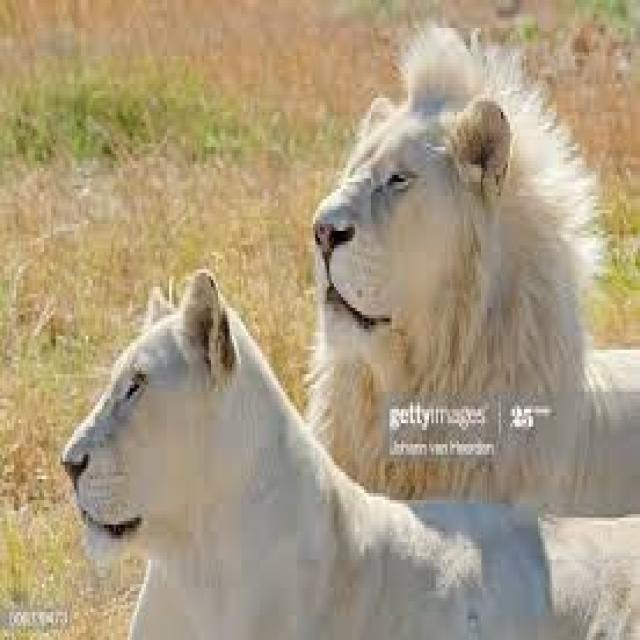Lion: (60, 24, 638, 637)
